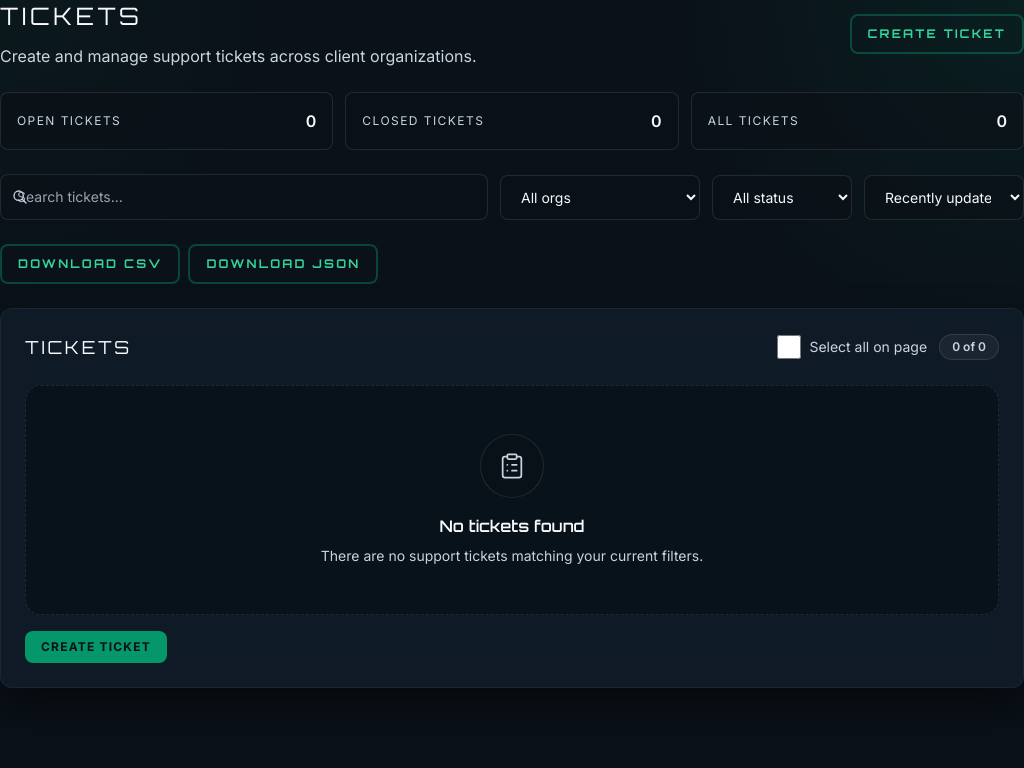
Test: AdminTicketCenterClient › shows create ticket modal on button click
Step 1. Click the 1st button "Create Ticket" → click(937, 34), box x1=850 y1=14 x2=1023 y2=54
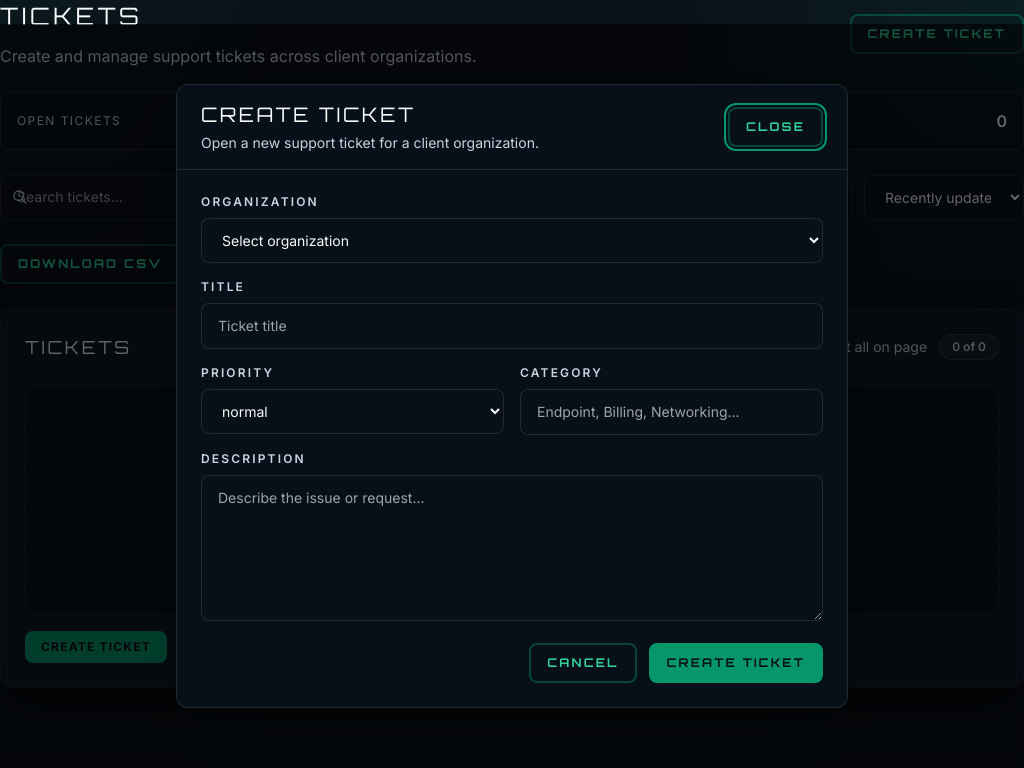
Check: the heading "Create Ticket" is shown, box x1=201 y1=102 x2=416 y2=127
